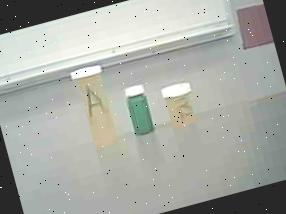Bottle A: (63, 58, 130, 161)
Bottle B: (158, 78, 204, 132)
Bottle C: (118, 79, 164, 142)
